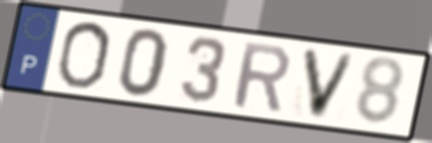0: (115, 26, 172, 99)
3: (178, 34, 231, 107)
8: (351, 55, 411, 129)
O: (53, 20, 114, 91)
R: (230, 40, 292, 115)
V: (299, 45, 360, 123)
